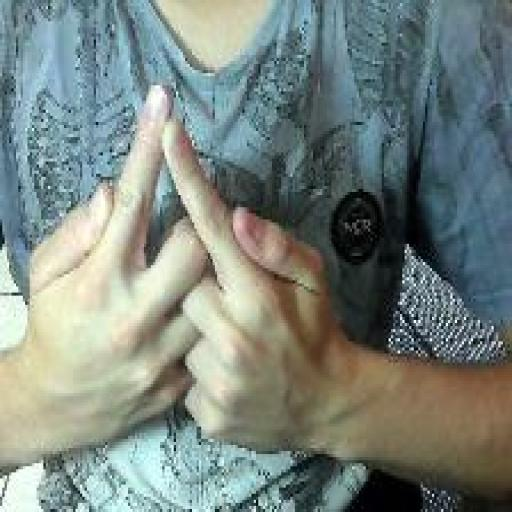Uma -horse-: (23, 80, 334, 462)
